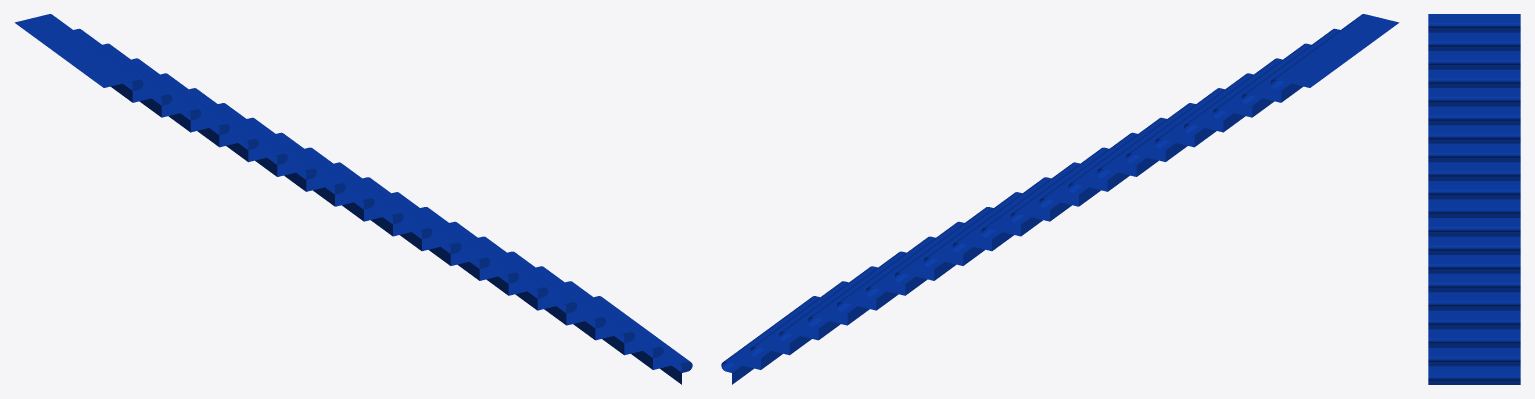
Rendered from StairsTest3_low.fbx.
3 views of the same model, side by side, from view 1: azimuth 30°, elevation 25°; view 2: azimuth 150°, elevation 25°; view 3: azimuth 270°, elevation 25° (orthographic). The views are drawn at different scales.
Visible parts, largest first — view 1: Stairs11; view 2: Stairs11; view 3: Stairs11.
Part boxes in pixels (x1,y1,x2,y2): Stairs11: (14,14,692,384); Stairs11: (721,14,1399,384); Stairs11: (1428,14,1520,384).
Size of the model in its own units: 28.12 by 19.99 by 7.41.
